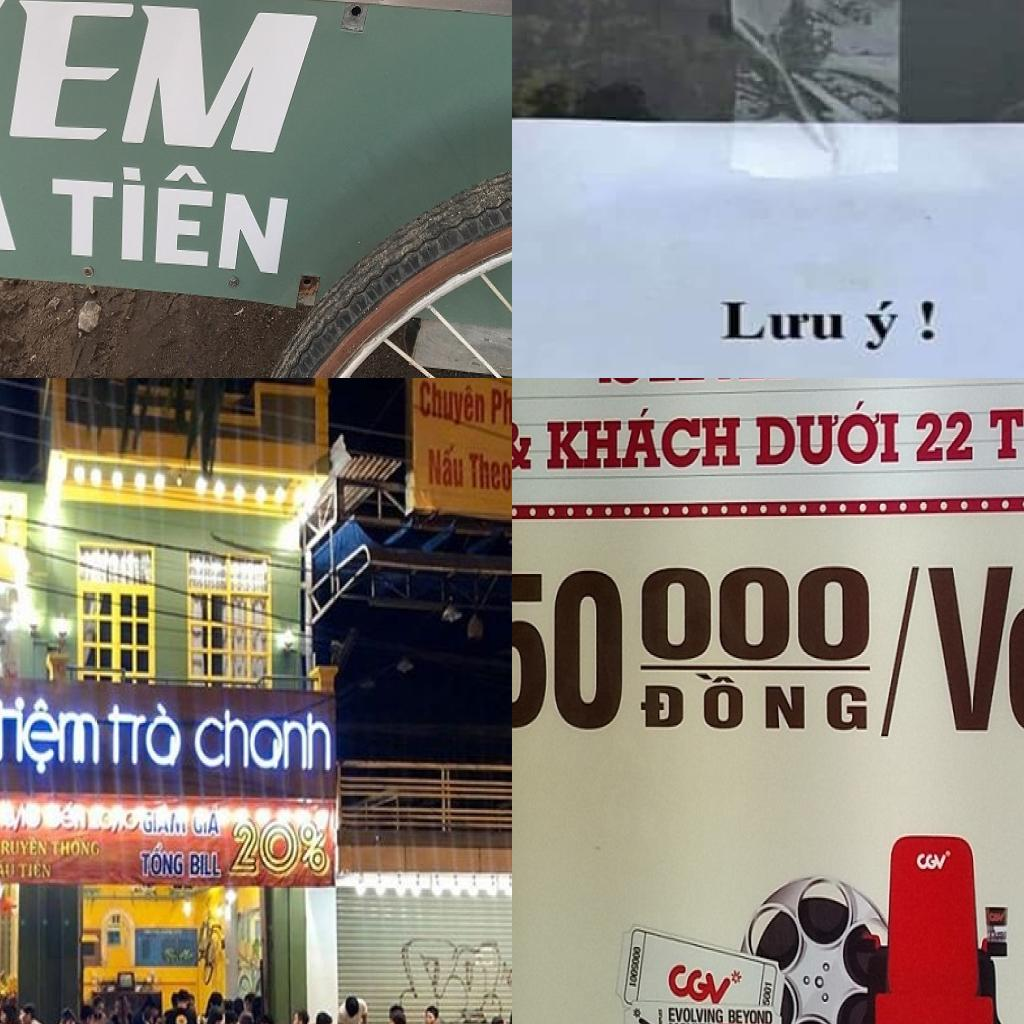text: (0, 0, 326, 157), (634, 554, 874, 669), (512, 558, 629, 739), (925, 555, 1024, 745), (634, 669, 876, 736), (542, 404, 746, 476), (751, 396, 905, 472), (192, 704, 334, 775), (0, 693, 102, 777), (718, 297, 848, 344), (228, 817, 330, 876), (106, 699, 184, 773), (910, 406, 980, 470), (666, 953, 733, 1007), (419, 378, 488, 430), (985, 381, 1024, 468), (861, 298, 903, 353), (467, 449, 512, 494), (427, 440, 466, 491), (139, 843, 186, 879), (489, 384, 512, 438), (668, 1003, 725, 1024), (49, 836, 103, 858), (0, 834, 49, 858), (918, 297, 941, 344), (916, 846, 954, 874), (724, 1006, 775, 1024), (190, 852, 222, 878), (18, 859, 54, 881), (633, 1005, 659, 1024), (0, 860, 16, 881)
